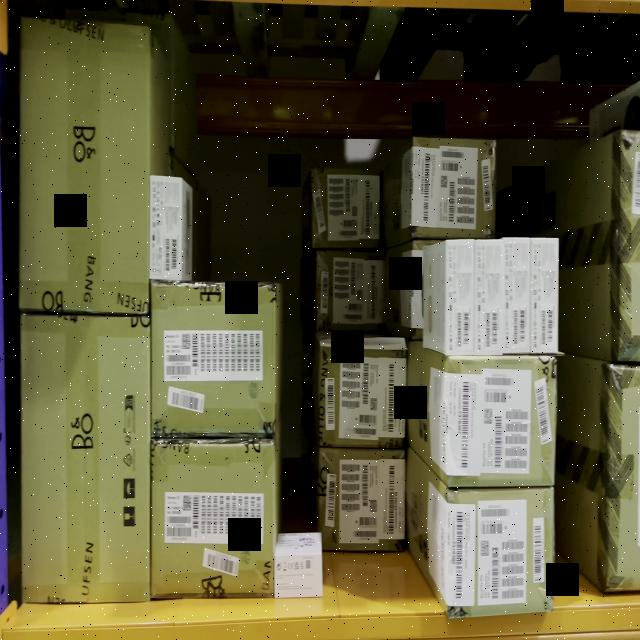box: (20, 16, 150, 311), (21, 310, 153, 598), (153, 437, 275, 600), (151, 283, 273, 437), (448, 364, 560, 488), (448, 491, 554, 614), (322, 342, 412, 453), (322, 448, 410, 548), (412, 142, 498, 231), (317, 247, 392, 329), (312, 168, 384, 244)
